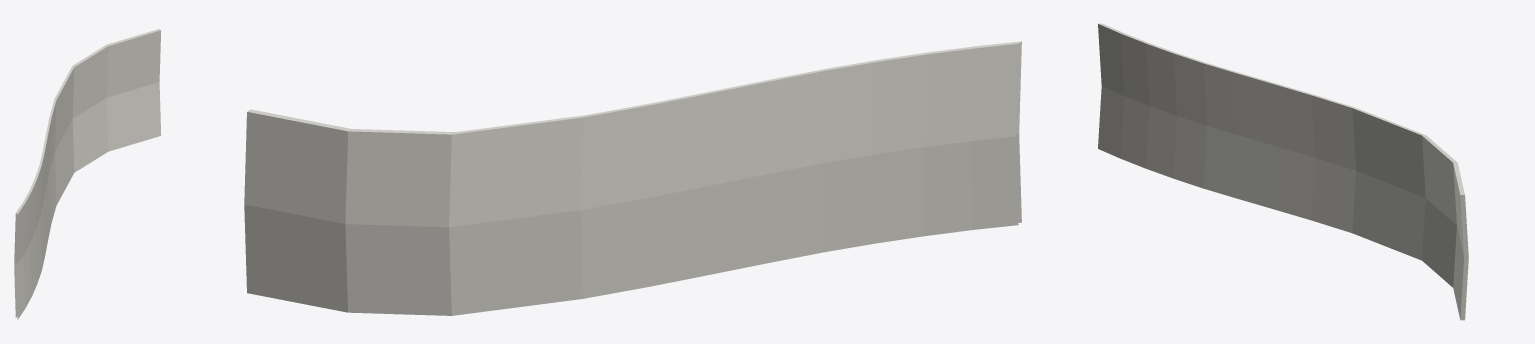
3 views of the same model, side by side, from view 1: azimuth 30°, elevation 25°; view 2: azimuth 150°, elevation 25°; view 3: azimuth 270°, elevation 25° (orthographic). The views are drawn at different scales.
Size of the model in its own units: 1.31 by 0.508 by 1.43.
